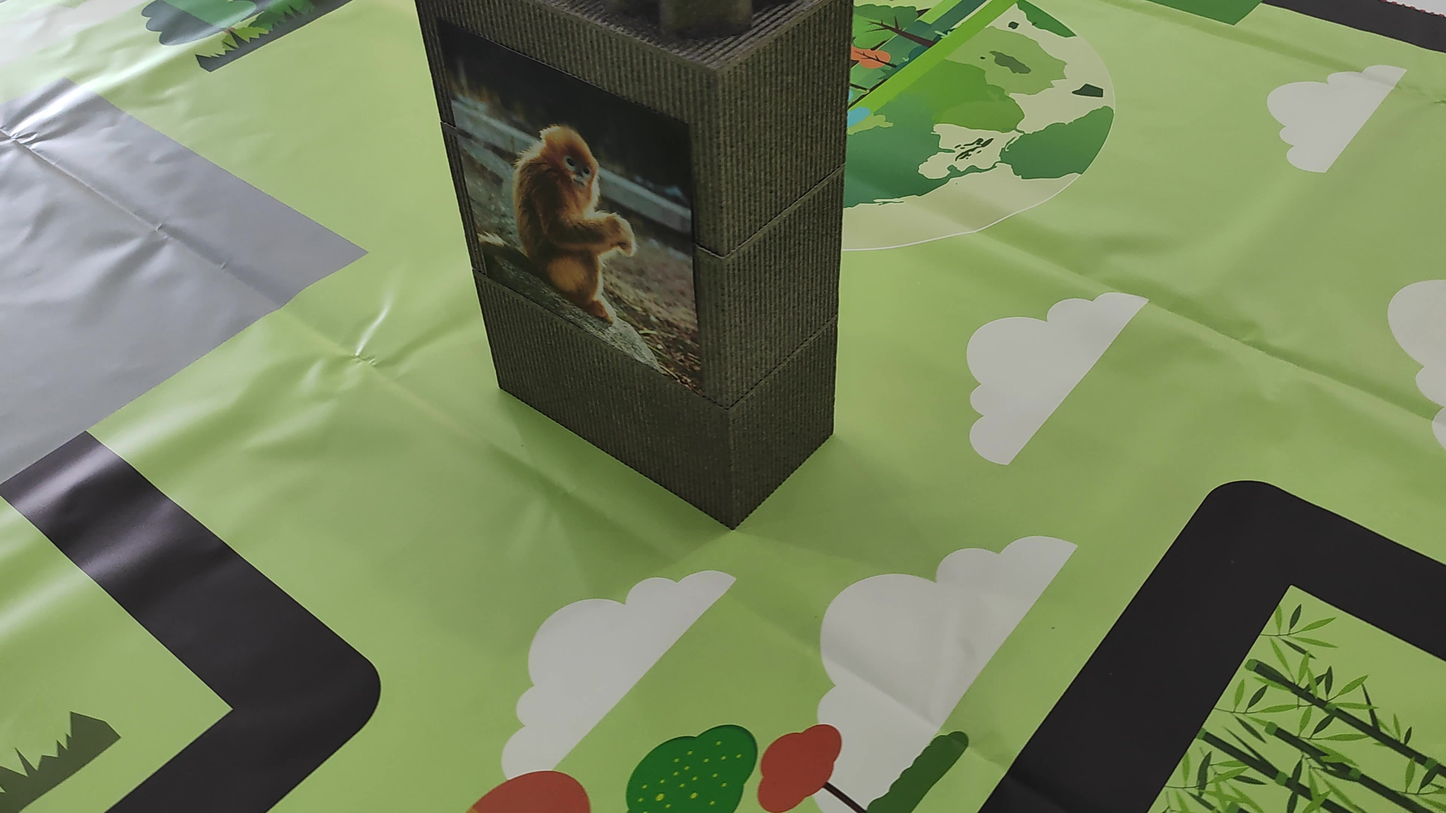monkey: (487, 105, 674, 334)
